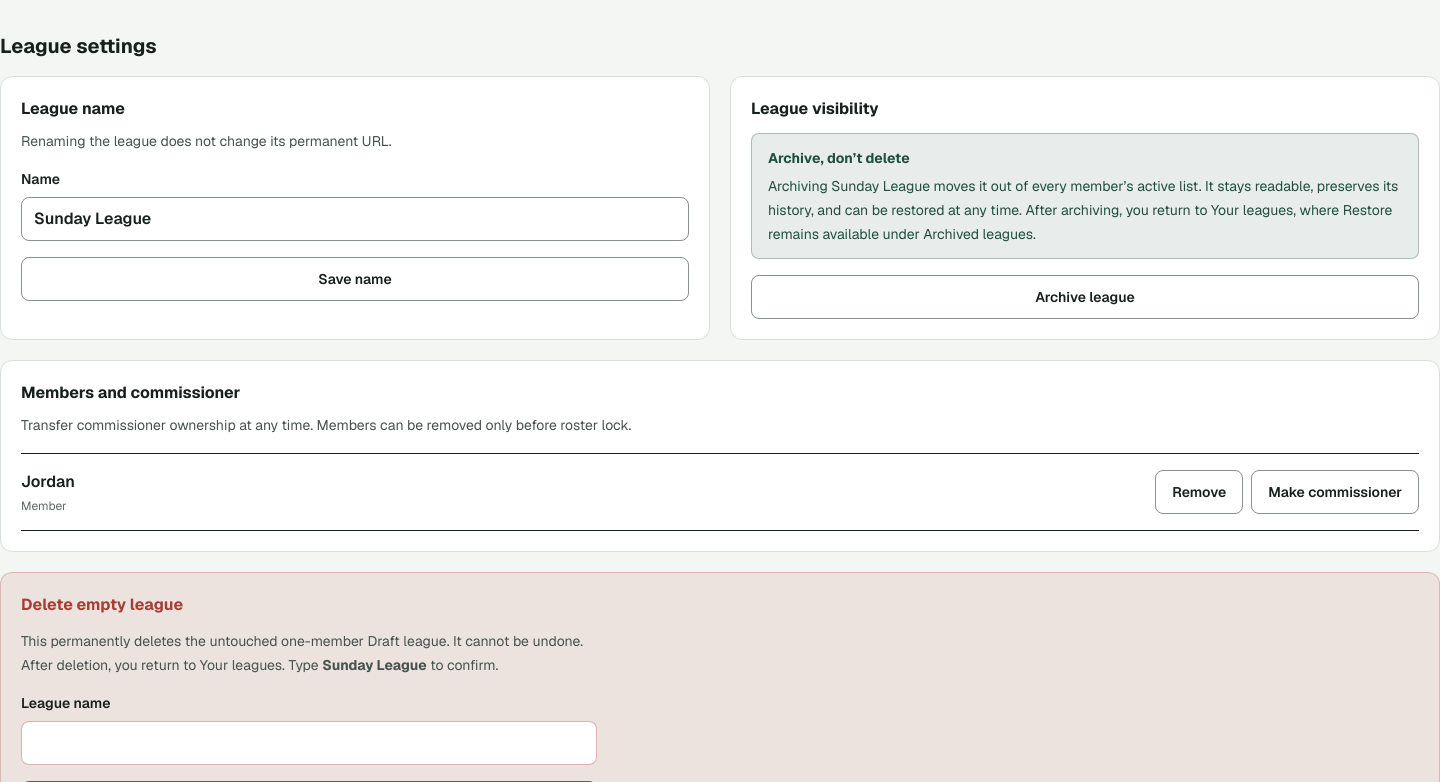
Test: Phase 5 safety and trust presentation › makes commissioner transfer consequences and actual reversal authority explicit
Click the button with aria-label "Make Jordan commissioner" at {"x": 1335, "y": 492}, box top-left (1251, 470), bottom-right (1419, 514)
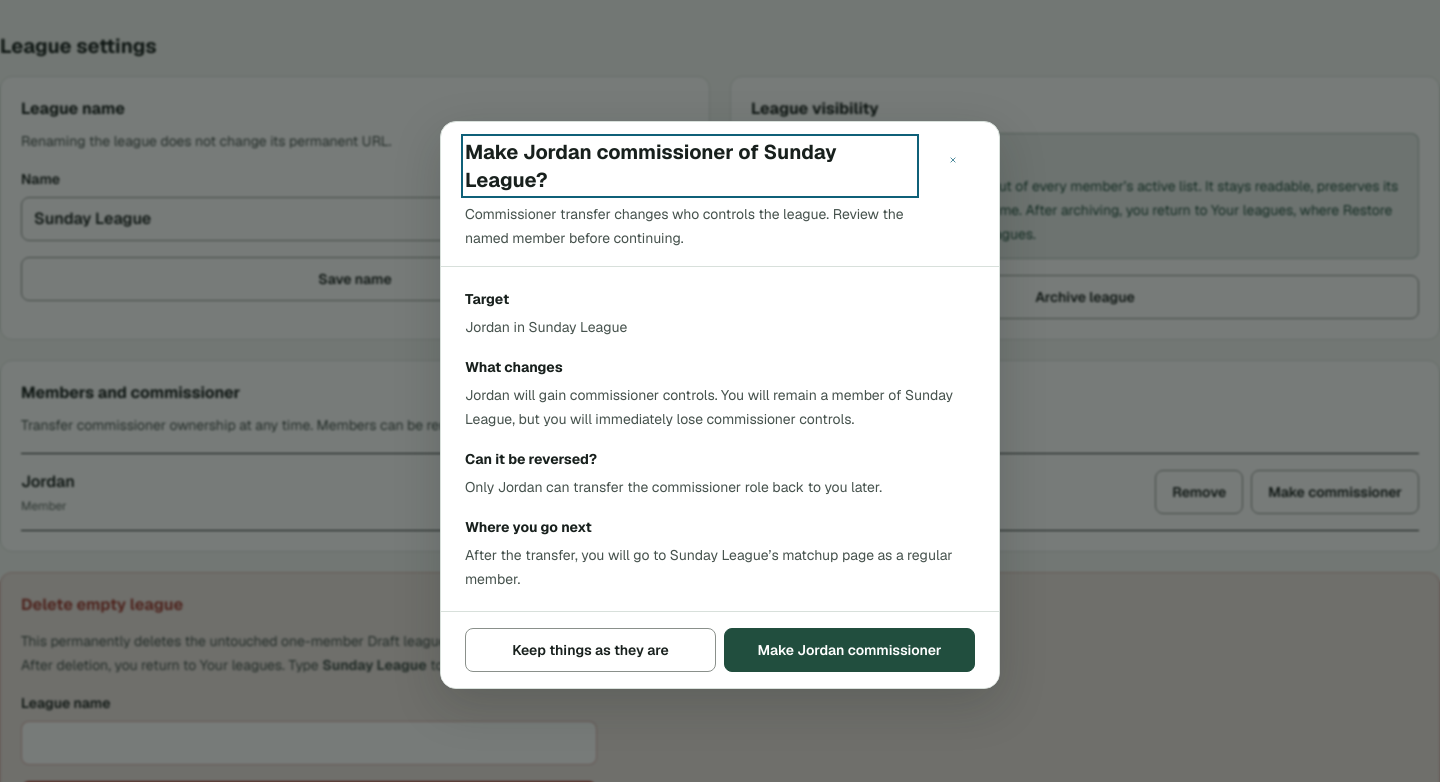
Now the text "remain a member" is shown, box top-left (465, 386), bottom-right (953, 428)
Now the text "Only Jordan can transfer" is shown, box top-left (465, 478), bottom-right (882, 496)
Now the text "matchup page" is shown, box top-left (465, 546), bottom-right (953, 588)
